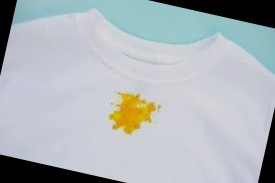mustard: (105, 90, 165, 140)
